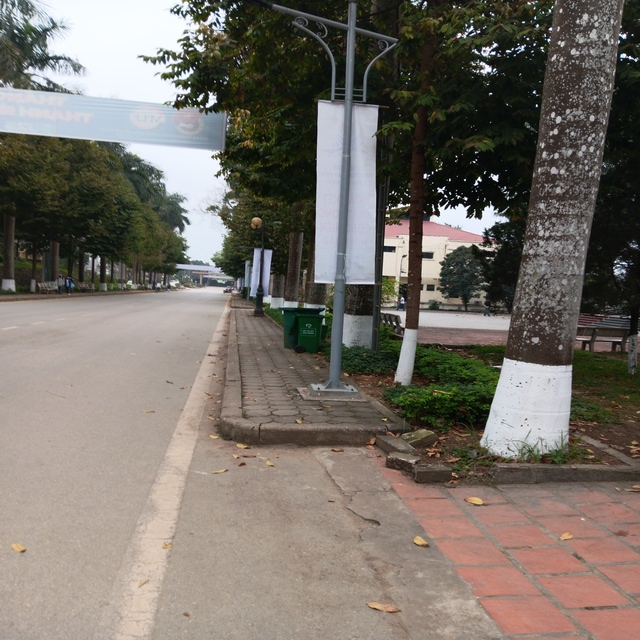thungrac: (277, 297, 308, 343), (296, 314, 325, 359)
